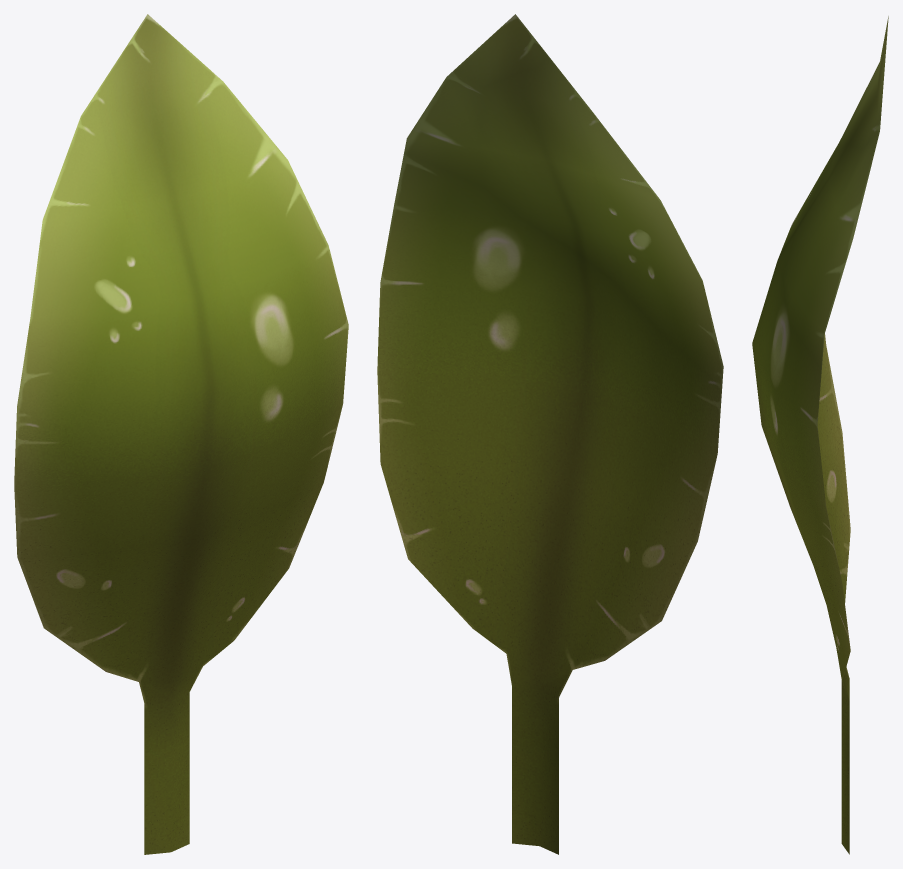
The model's file is Flower_Leaf.fbx.
3 renders of one model, left to right at view 1: azimuth 30°, elevation 25°; view 2: azimuth 150°, elevation 25°; view 3: azimuth 270°, elevation 25°, orthographic. The views are drawn at different scales.
Visible parts, largest first — view 1: Flower_Leaf; view 2: Flower_Leaf; view 3: Flower_Leaf.
Part boxes in pixels (x1,y1,x2,y2): Flower_Leaf: [14, 14, 348, 854]; Flower_Leaf: [377, 14, 723, 854]; Flower_Leaf: [752, 16, 888, 854].
Size of the model in its own units: 0.4737 by 1.12 by 0.1673.
